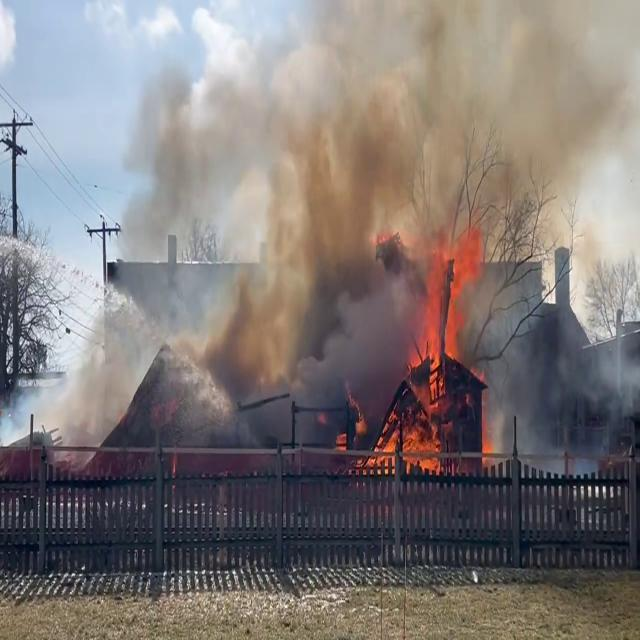Fire: (377, 215, 485, 480)
Smoke: (87, 0, 638, 432)
